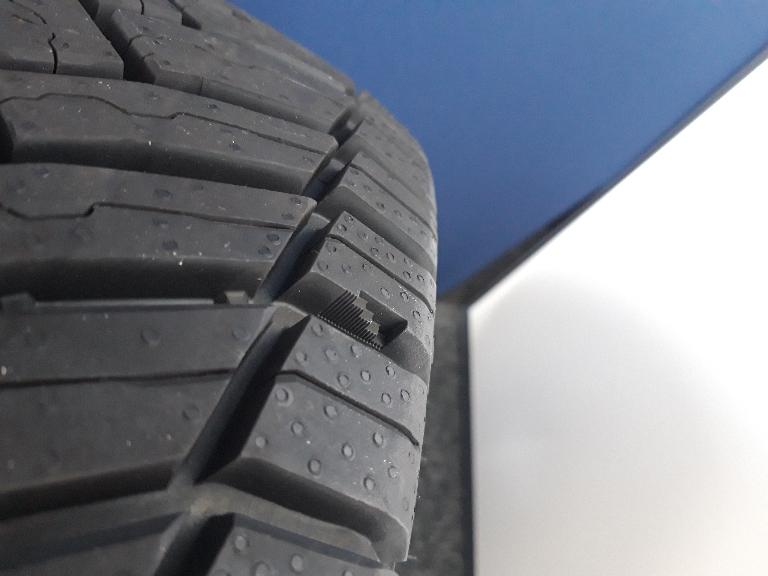temoin:100: (318, 287, 410, 352)
